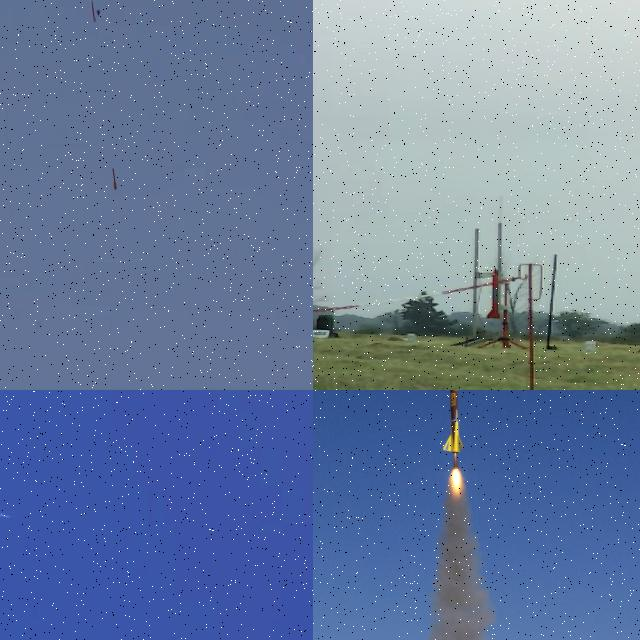Rocket: (442, 390, 464, 454), (485, 267, 502, 319), (113, 168, 117, 189), (0, 512, 10, 518)
